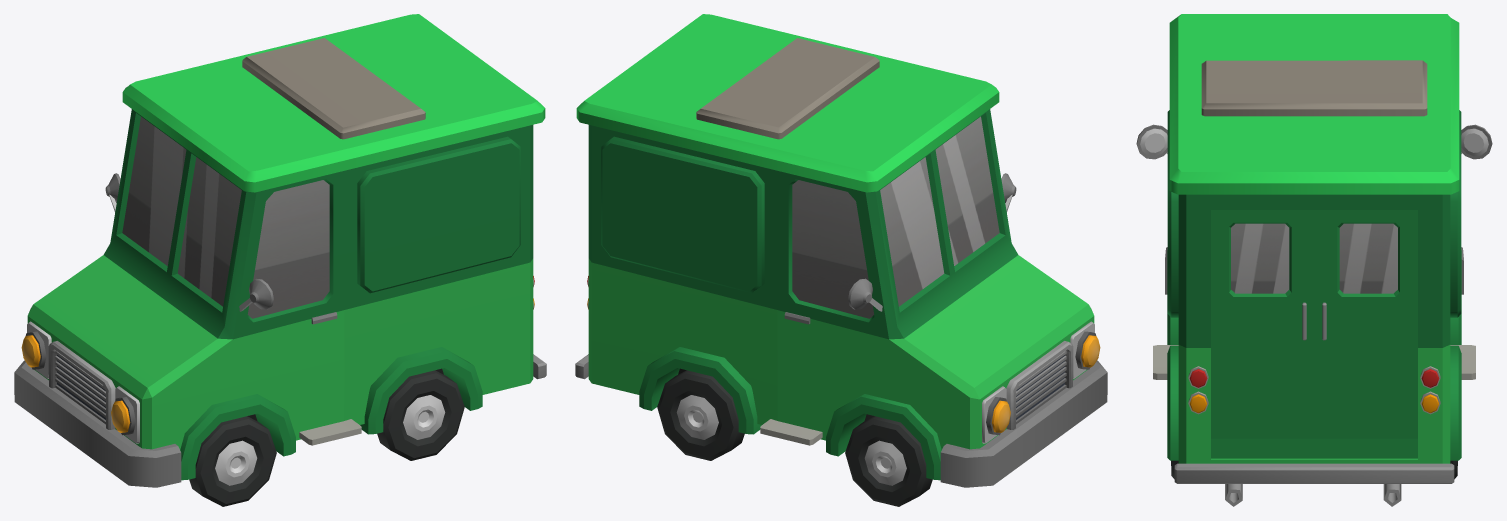
The model's file is Car_14_A.fbx.
The picture shows the model from 3 angles, left to right: view 1: azimuth 30°, elevation 25°; view 2: azimuth 150°, elevation 25°; view 3: azimuth 270°, elevation 25°; orthographic projection. The views are drawn at different scales.
Visible parts, largest first — view 1: Car_14_A, RL, FL; view 2: Car_14_A, RR, FR; view 3: Car_14_A.
Boxes of the visible parts, x1,y1,x2,y2 form: Car_14_A: (14, 14, 546, 487); RL: (377, 370, 464, 460); FL: (189, 416, 276, 506); Car_14_A: (575, 14, 1107, 487); RR: (657, 370, 744, 460); FR: (845, 416, 932, 506); Car_14_A: (1136, 14, 1492, 506).
Bounding box in the file's own units: 275 × 210 × 180.
